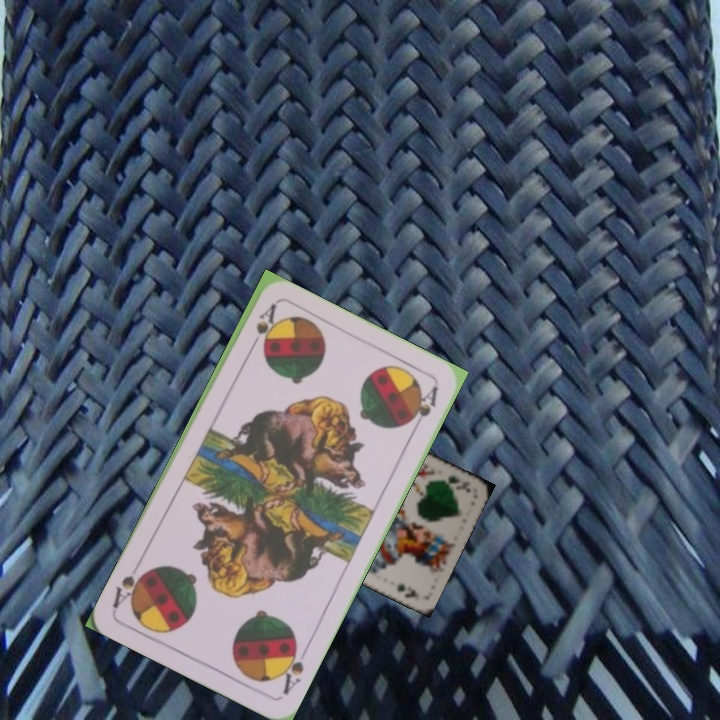GK: (435, 471, 474, 495)
SA: (274, 638, 307, 698), (244, 300, 279, 355)
